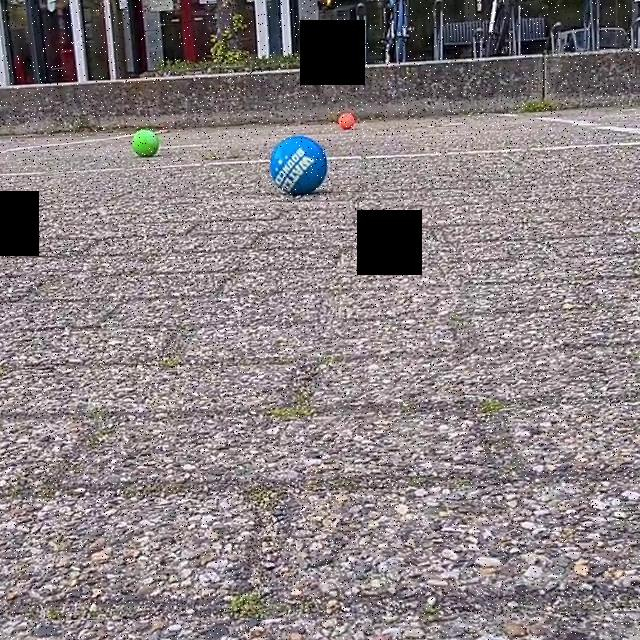ball: (128, 124, 162, 159), (336, 107, 356, 131)
